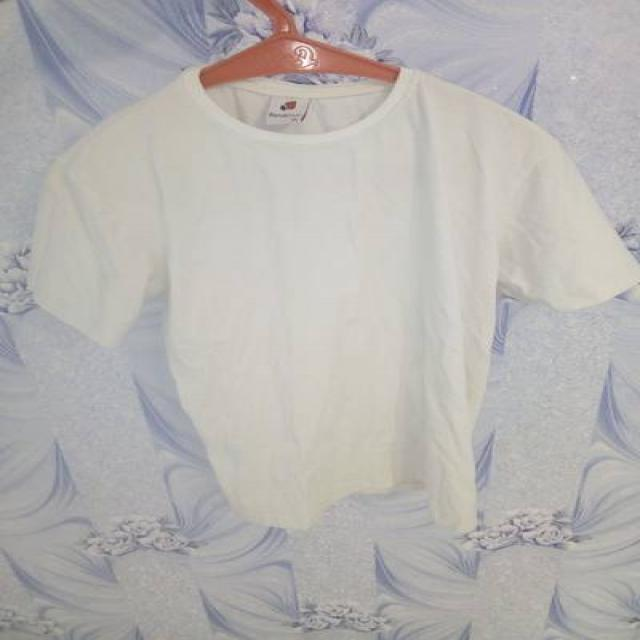Clothes -Biodegradable-: (24, 62, 639, 531)
